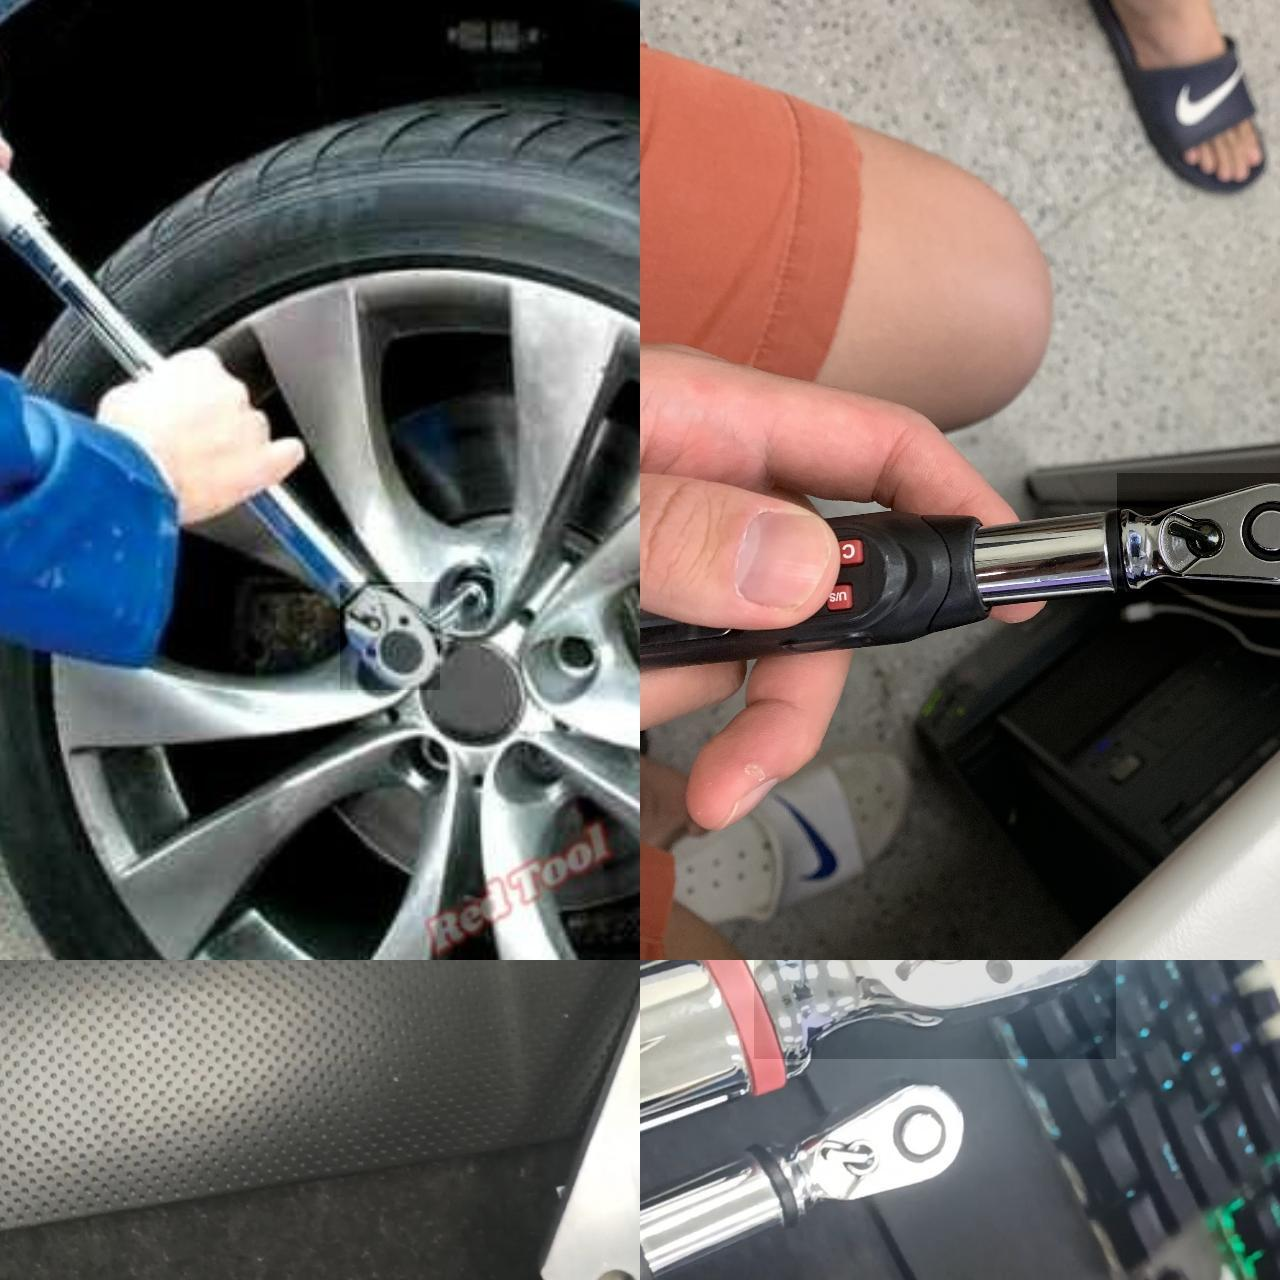Tool: (753, 960, 1115, 1058), (774, 1077, 971, 1213), (1116, 472, 1280, 594), (339, 581, 440, 689)
